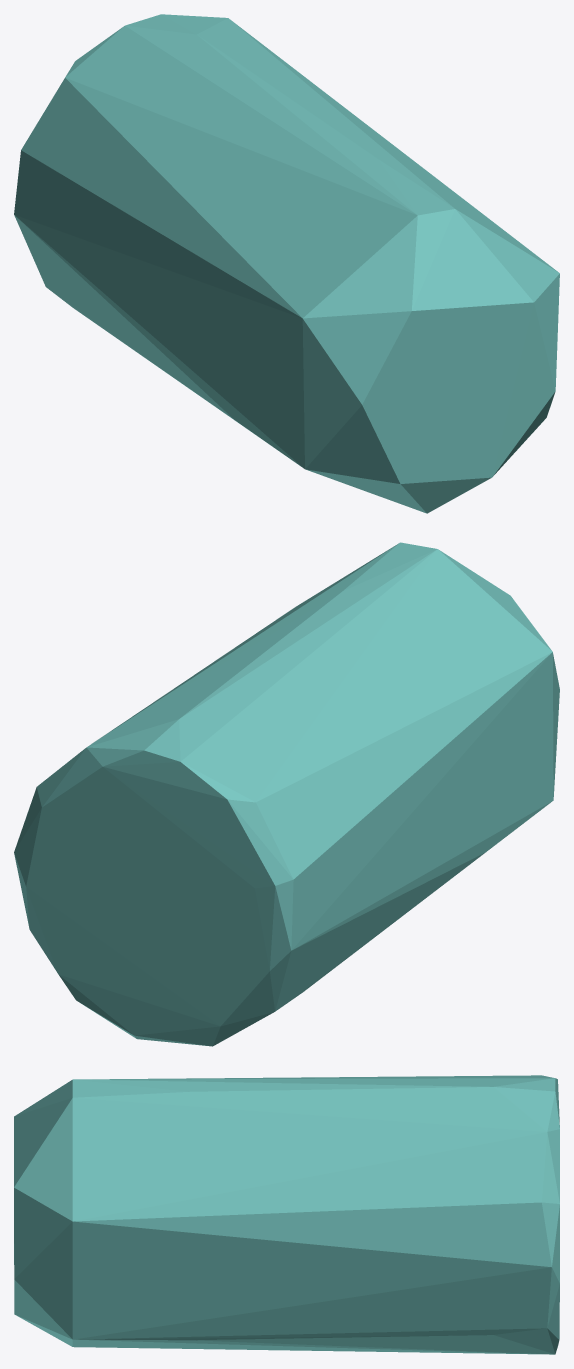
File: medicine_b04.glb
3 renders of one model, top to bottom at view 1: azimuth 30°, elevation 25°; view 2: azimuth 150°, elevation 25°; view 3: azimuth 270°, elevation 25°, orthographic. The views are drawn at different scales.
Visible parts, largest first — view 1: geometry_0; view 2: geometry_0; view 3: geometry_0.
Part boxes in pixels (left/top/right/bottom): geometry_0: left=14, top=14, right=559, bottom=513; geometry_0: left=14, top=542, right=559, bottom=1046; geometry_0: left=14, top=1075, right=559, bottom=1354.
Bounding box in the file's own units: 0.2489 × 0.2564 × 0.48.
